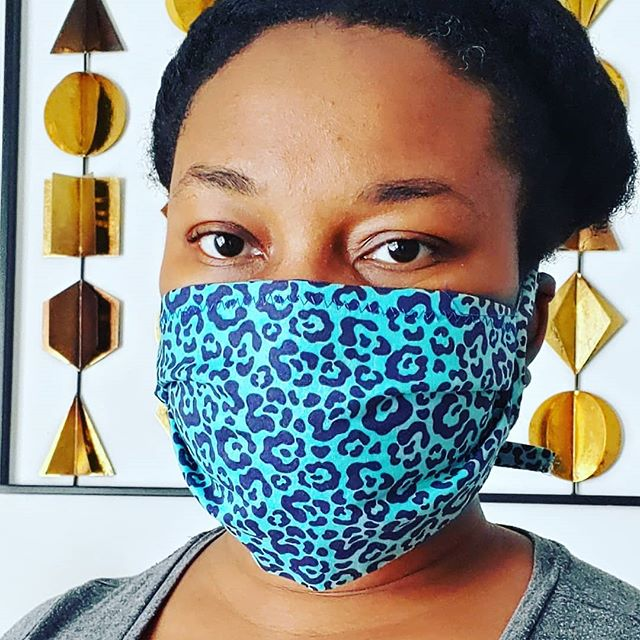homemade: (148, 285, 533, 585)
